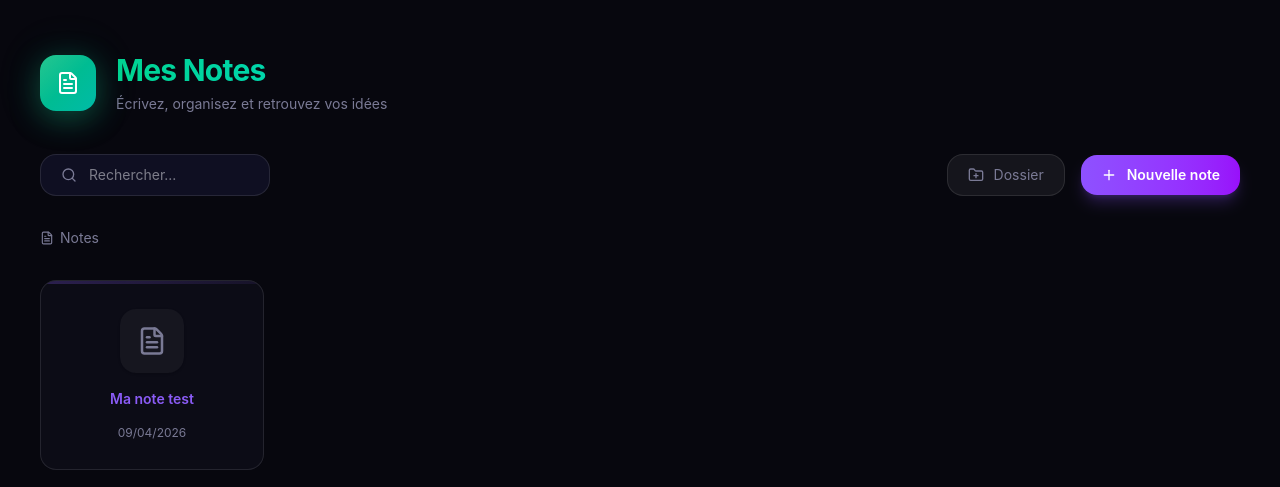
Test case: Notes - Attachments › displays multiple attachments
Double-click the 6th icon.
double_click(152, 341)  # box [137, 326, 167, 356]
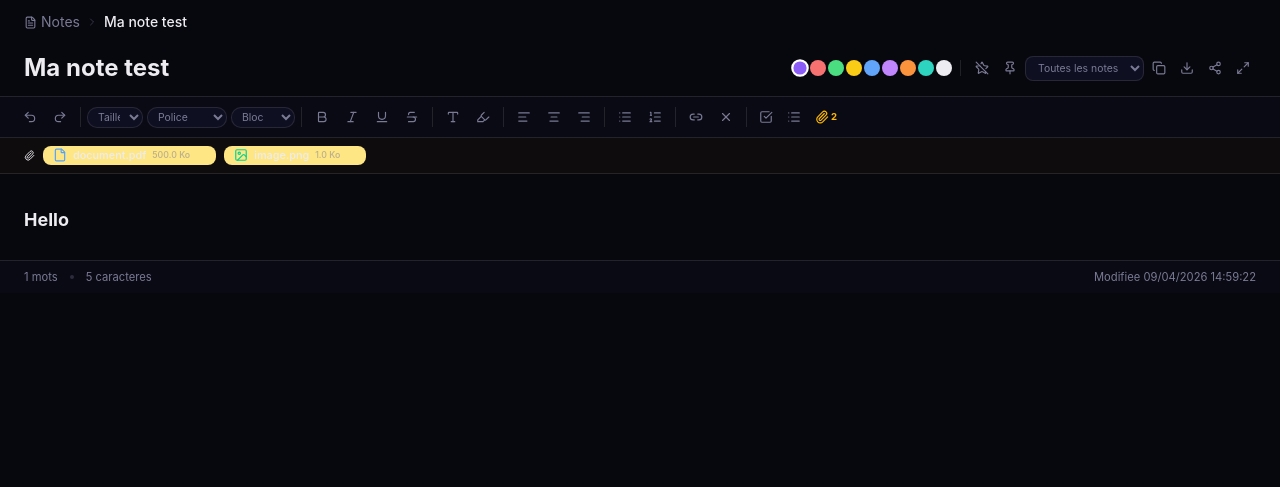
Expected: the link "document.pdf" is shown, [73, 148, 146, 162]
Expected: the link "image.png" is shown, [254, 148, 309, 162]
Expected: the button titled "Pièces jointes (2)" is shown, [809, 103, 843, 131]
